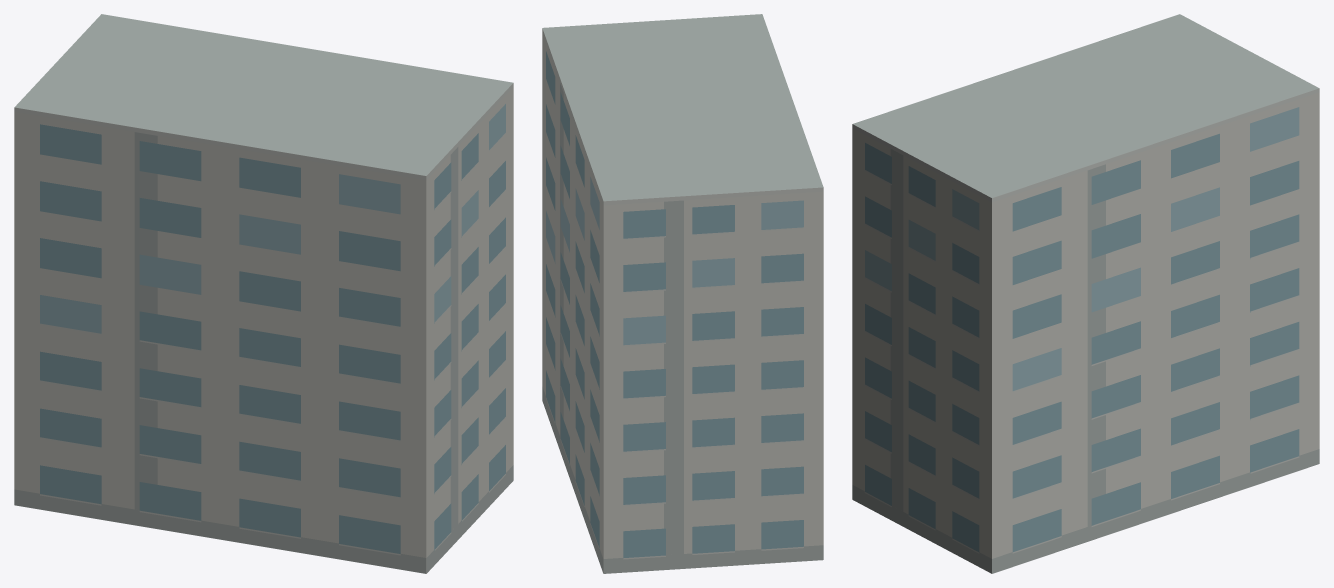
File: residential-1853dc33-a6eb-4bb7-89f7-7c14d3cfdd3b.glb
3 renders of one model, left to right at view 1: azimuth 30°, elevation 25°; view 2: azimuth 150°, elevation 25°; view 3: azimuth 270°, elevation 25°, orthographic. The views are drawn at different scales.
Visible parts, largest first — view 1: residential-1853dc33-a6eb-4bb7-89f7-7c14d3cfdd3b.tmp; view 2: residential-1853dc33-a6eb-4bb7-89f7-7c14d3cfdd3b.tmp; view 3: residential-1853dc33-a6eb-4bb7-89f7-7c14d3cfdd3b.tmp.
Part boxes in pixels (x1,y1,x2,y2): residential-1853dc33-a6eb-4bb7-89f7-7c14d3cfdd3b.tmp: [14, 14, 513, 573]; residential-1853dc33-a6eb-4bb7-89f7-7c14d3cfdd3b.tmp: [542, 14, 823, 573]; residential-1853dc33-a6eb-4bb7-89f7-7c14d3cfdd3b.tmp: [852, 14, 1319, 573].
Bounding box in the file's own units: 22.46 × 21.35 × 24.07.
